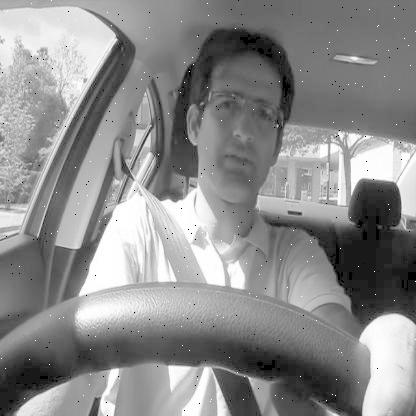seatbelt: (108, 25, 301, 284)
